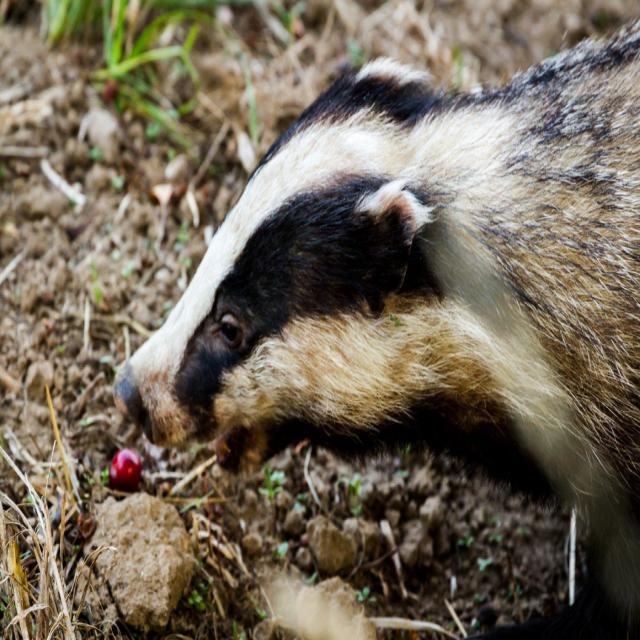badger: (114, 22, 640, 639)
